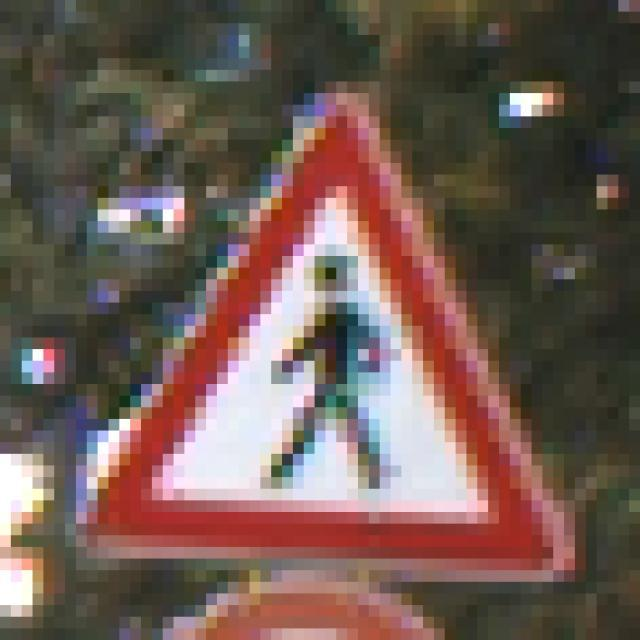pedestrian crossing: (88, 100, 563, 580)
